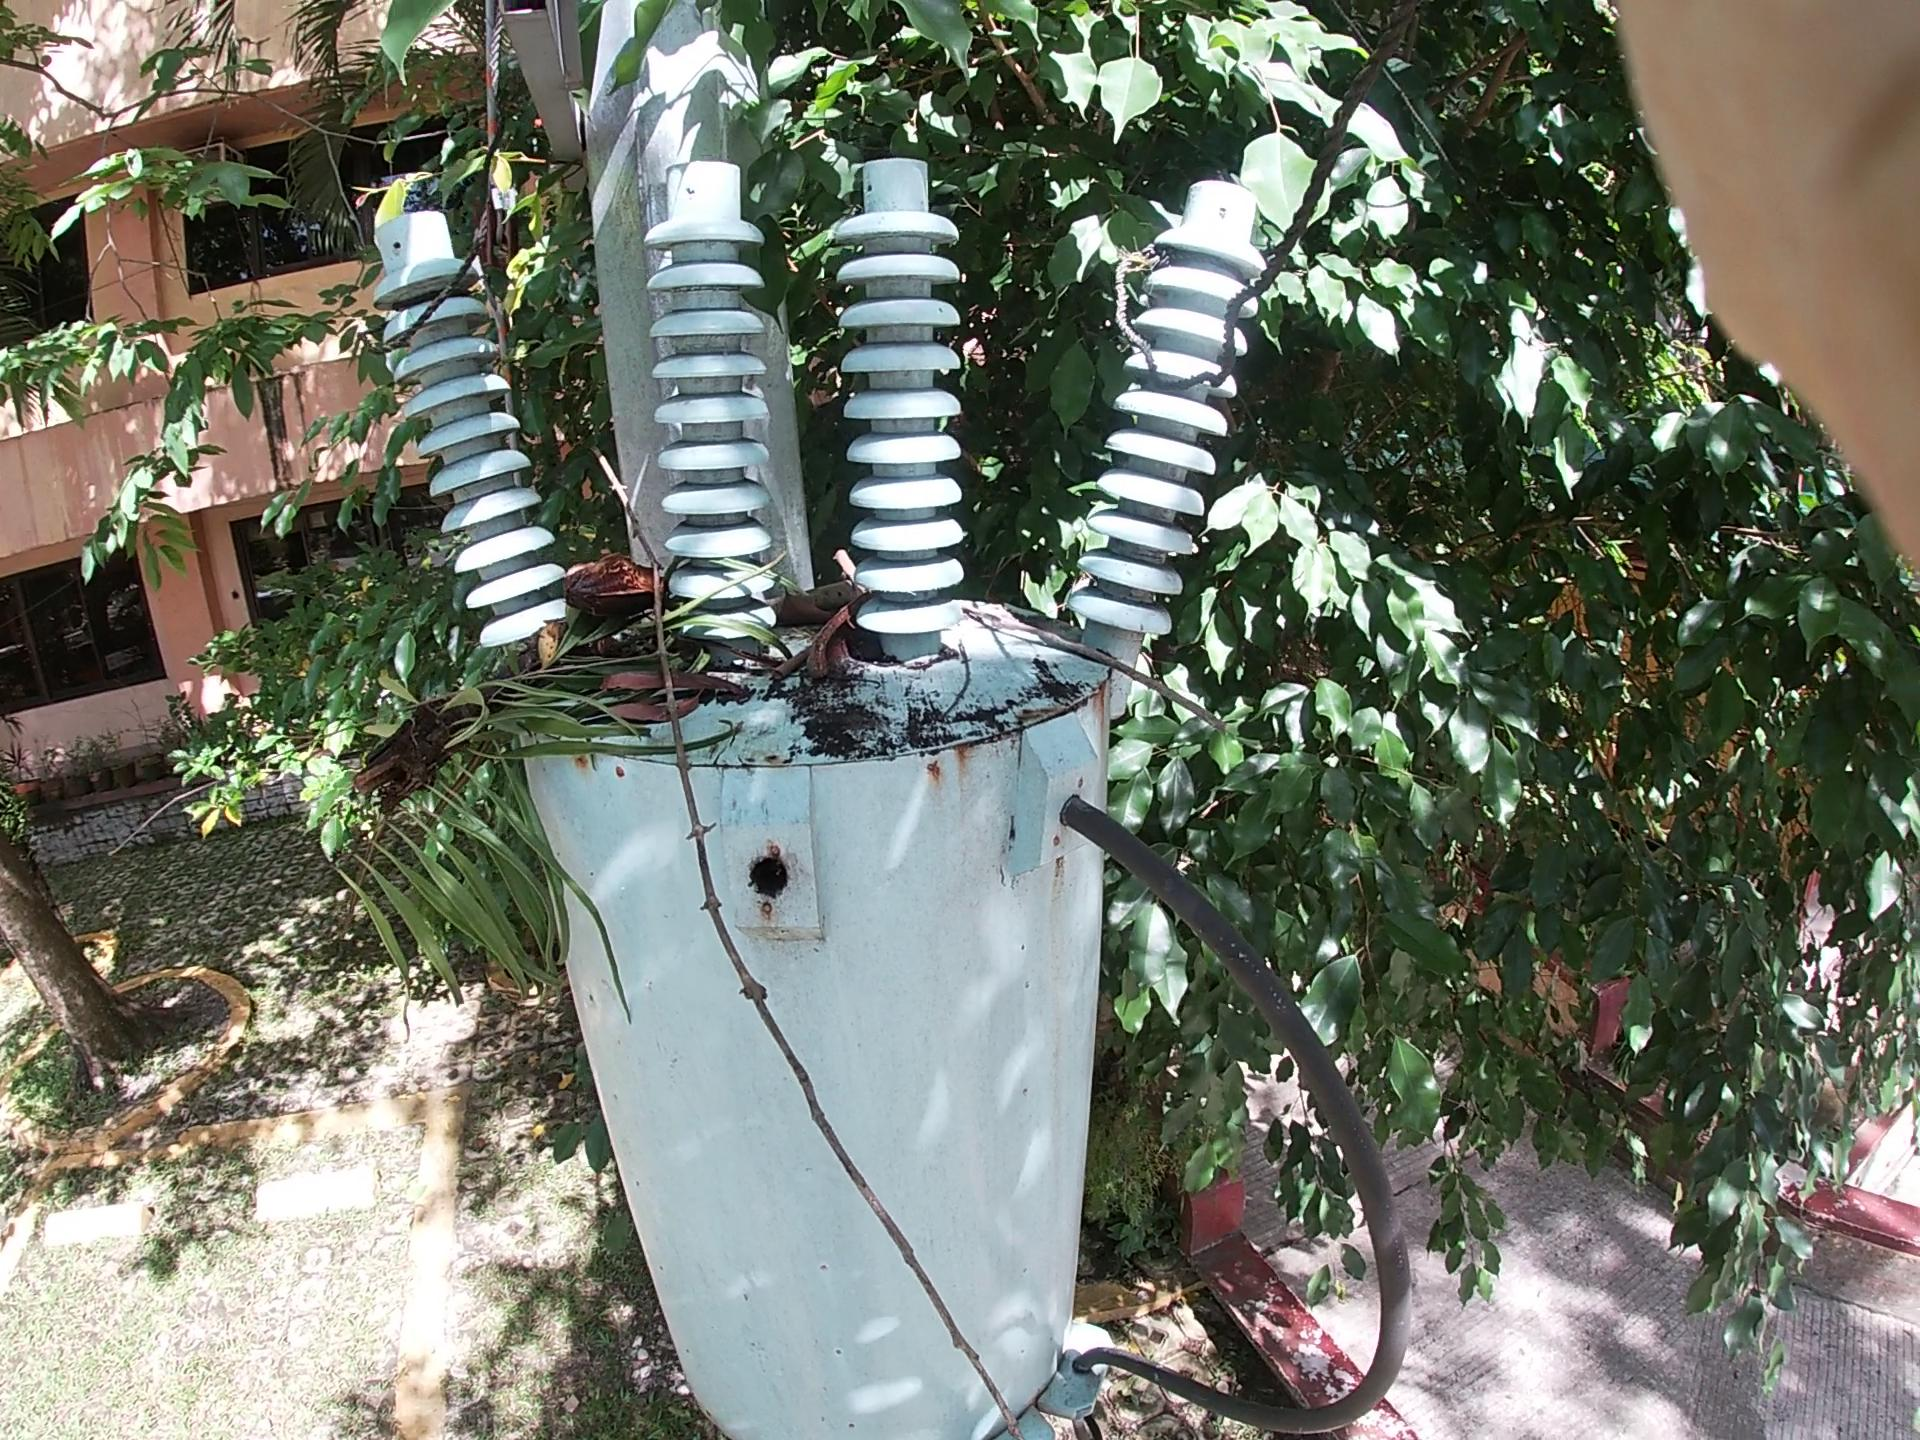branch with leaves: (221, 431, 912, 944)
leaf: (490, 2, 1113, 399)
mahogany fruit: (794, 584, 999, 731), (540, 514, 674, 626)
tree branch: (541, 395, 986, 1369), (957, 566, 1279, 774), (717, 520, 868, 802)
